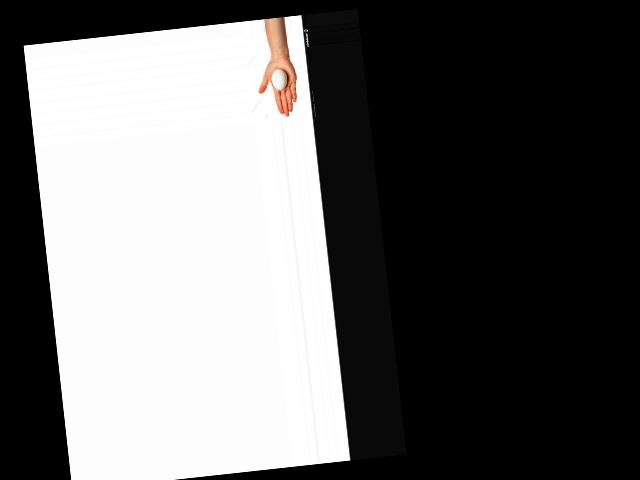egg: (271, 68, 288, 91)
